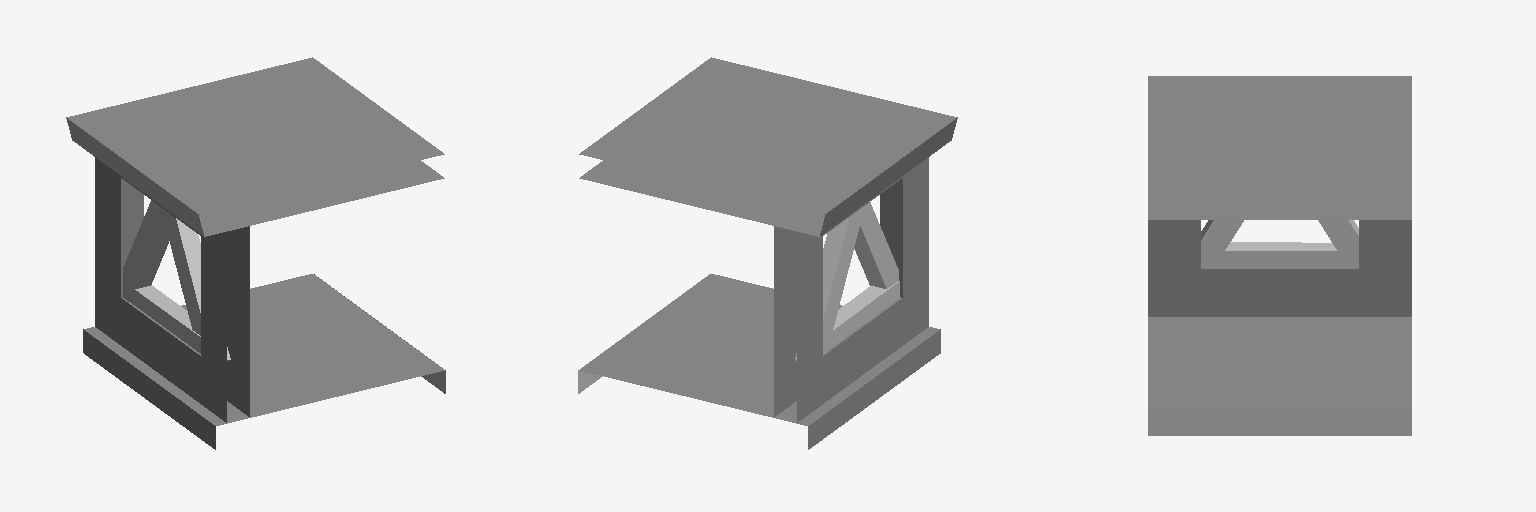
3 renders of one model, left to right at view 1: azimuth 30°, elevation 25°; view 2: azimuth 150°, elevation 25°; view 3: azimuth 270°, elevation 25°, orthographic.
Visible parts, largest first — view 1: objobjobjRegroup09; view 2: objobjobjRegroup09; view 3: objobjobjRegroup09.
Part boxes in pixels (bbox=[...]): objobjobjRegroup09: bbox=[66, 57, 445, 449]; objobjobjRegroup09: bbox=[578, 57, 957, 449]; objobjobjRegroup09: bbox=[1148, 76, 1411, 435].
Size of the model in its own units: 10.77 by 10.01 by 10.